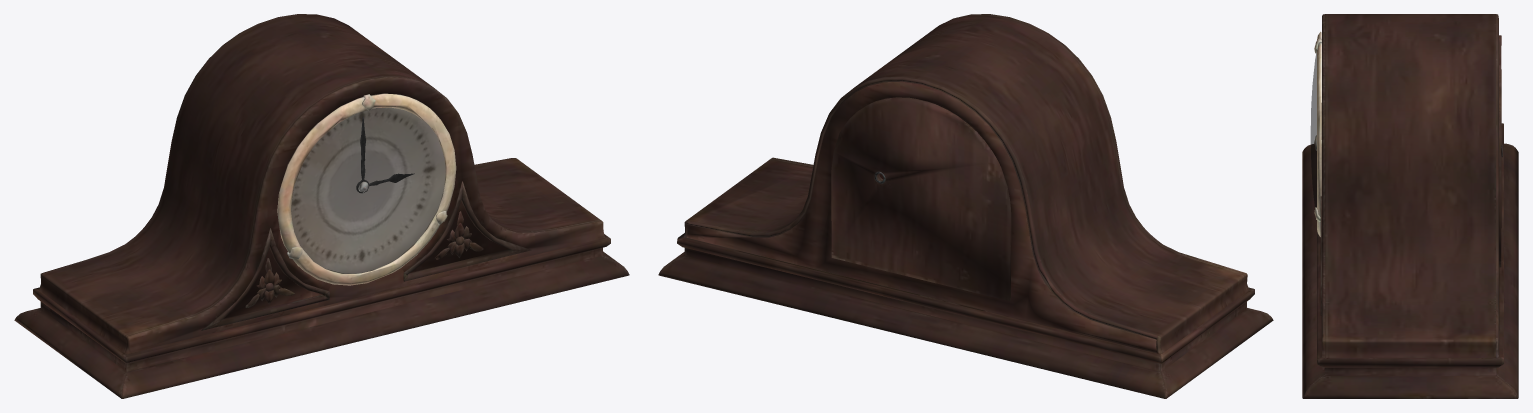
File: mantel_clock_01.glb
3 views of the same model, side by side, from view 1: azimuth 30°, elevation 25°; view 2: azimuth 150°, elevation 25°; view 3: azimuth 270°, elevation 25° (orthographic).
Parts seen in each view (by area): view 1: mantel_clock_01, mantel_clock_01_glass; view 2: mantel_clock_01; view 3: mantel_clock_01, mantel_clock_01_glass.
Boxes of the visible parts, x1=… form: mantel_clock_01: x1=14, y1=14, x2=629, y2=398; mantel_clock_01_glass: x1=291, y1=108, x2=445, y2=273; mantel_clock_01: x1=658, y1=14, x2=1273, y2=398; mantel_clock_01: x1=1302, y1=14, x2=1518, y2=398; mantel_clock_01_glass: x1=1310, y1=53, x2=1316, y2=207.
Size of the model in its own units: 0.3418 by 0.1604 by 0.1261.
Materials: 2 (2 with a texture image).
